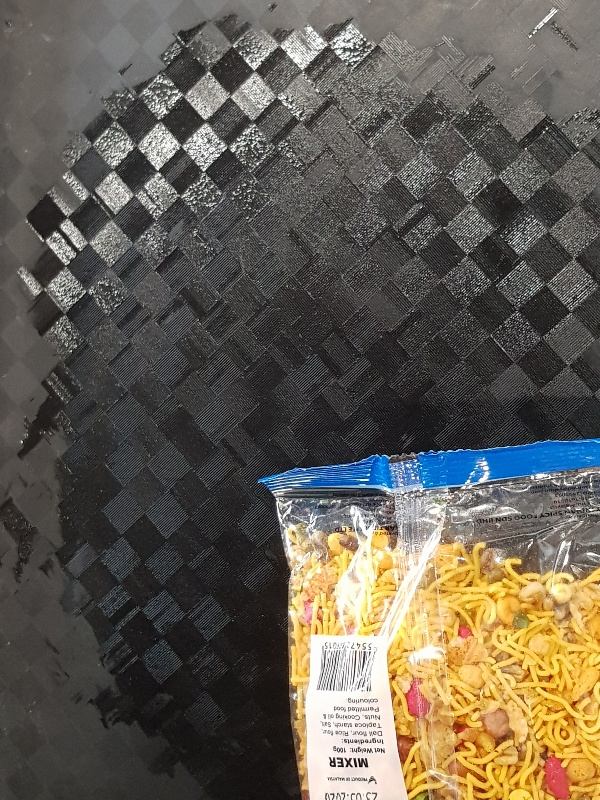Star Tidbits Mixer: (258, 436, 598, 800)
